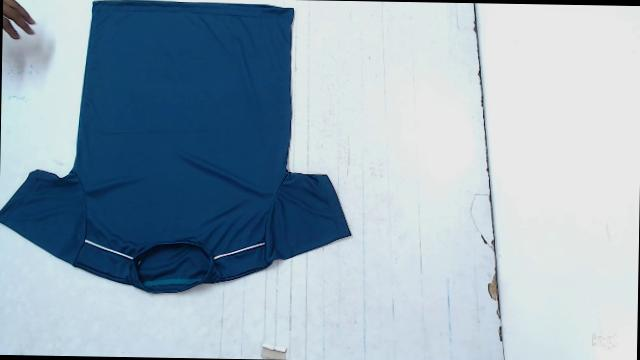new-garment: (0, 0, 350, 292)
